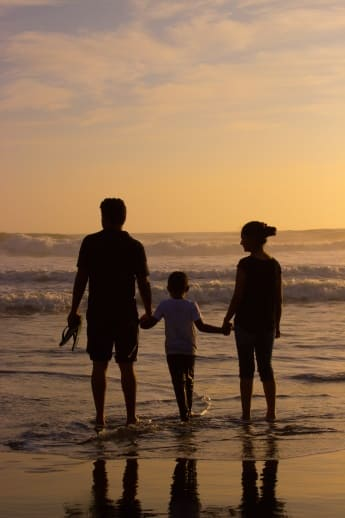person: (70, 194, 150, 425), (225, 225, 278, 415), (164, 272, 203, 417)
